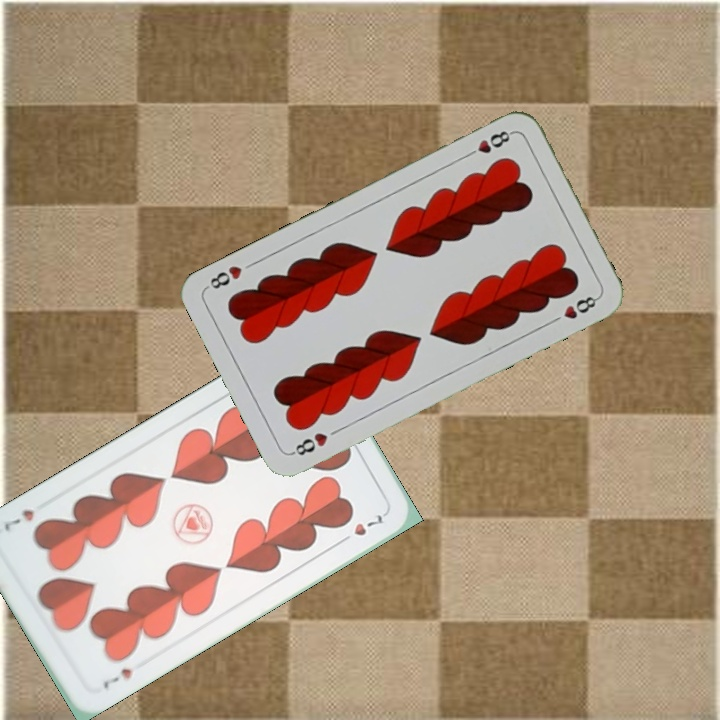H7: (99, 664, 135, 692)
H8: (461, 126, 516, 161), (287, 428, 331, 458)
